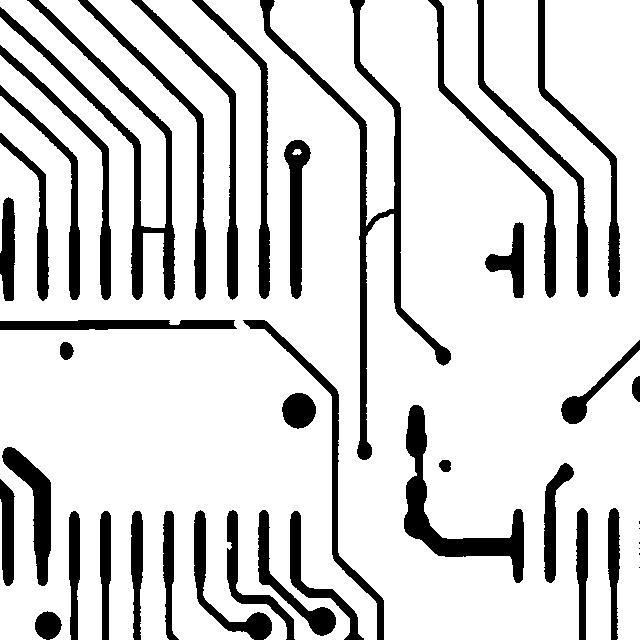copper: (429, 450, 460, 481)
mousebite: (159, 308, 190, 334), (215, 532, 241, 559)
open: (224, 310, 259, 342)
pin-hole: (282, 139, 311, 164)
short: (349, 199, 407, 250), (404, 438, 432, 496), (122, 216, 179, 242)
